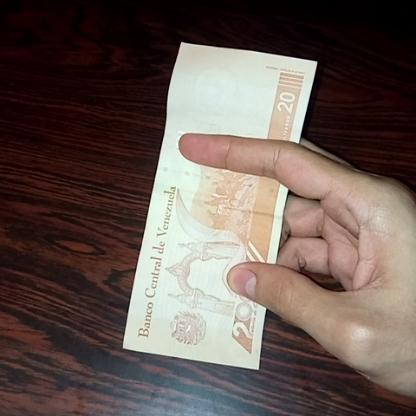twenty-back-vef: (125, 42, 318, 376)
